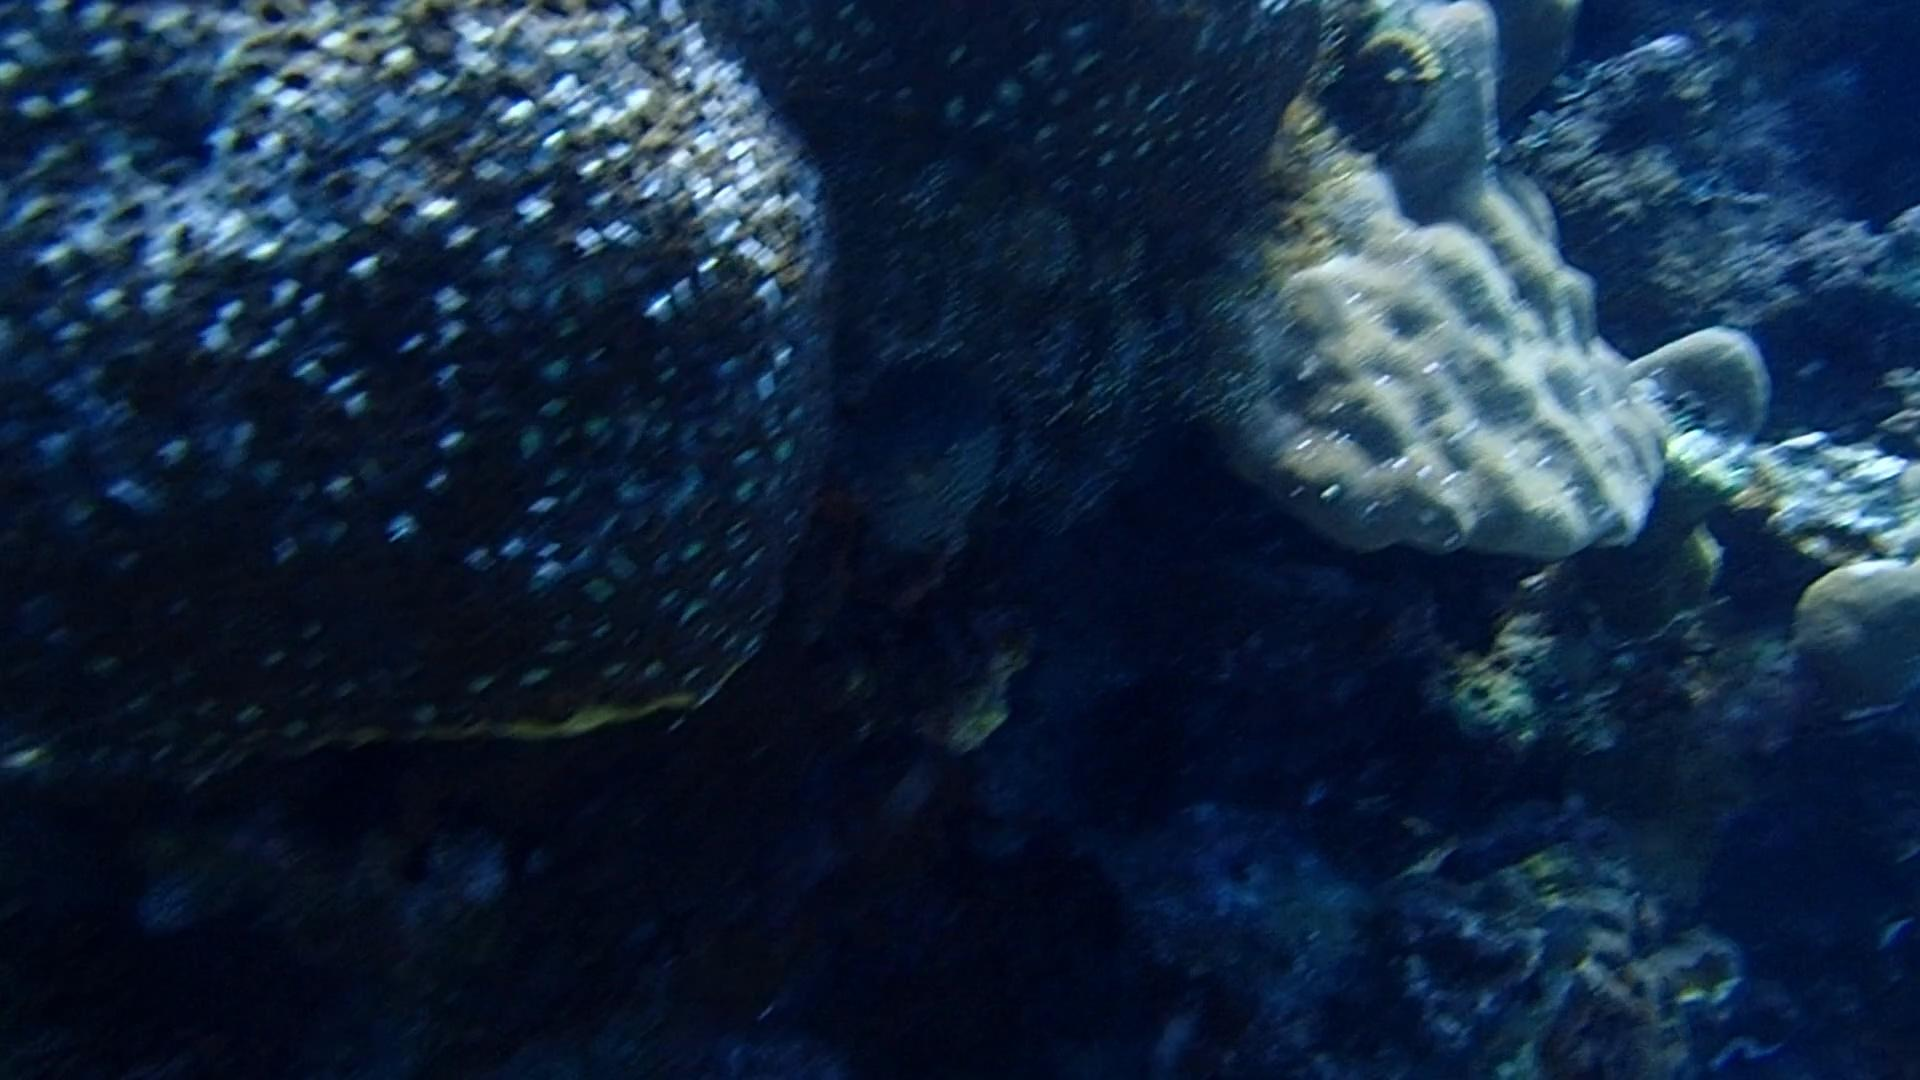Dark Fish: (1582, 83, 1713, 161)
